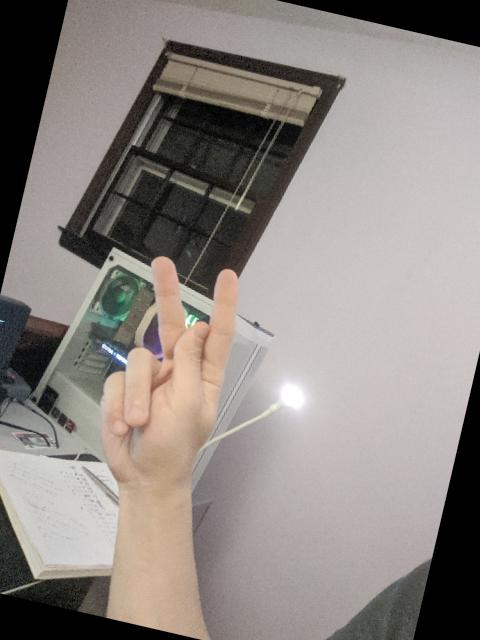K: (72, 241, 260, 514)
